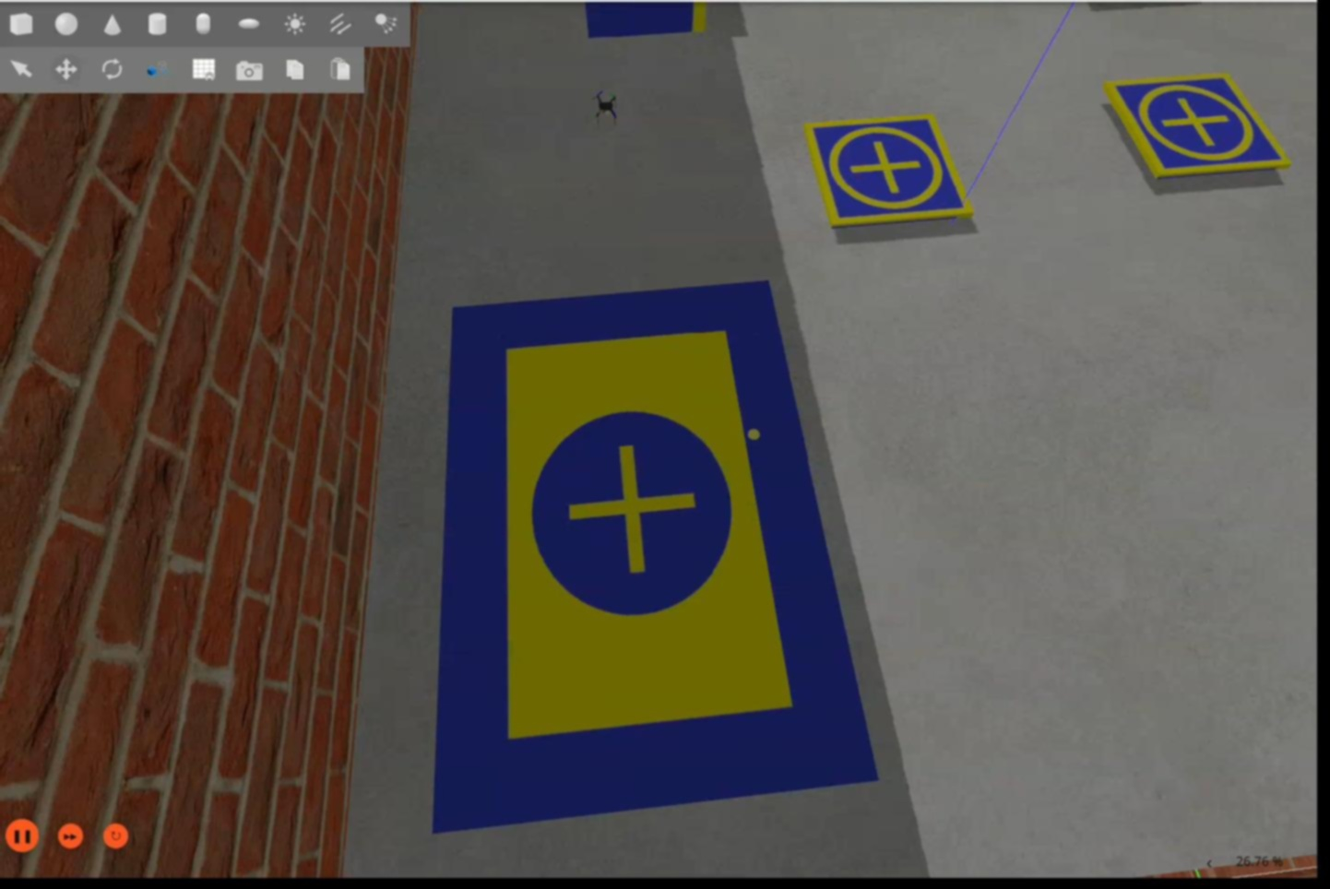large_base: (428, 284, 883, 832)
small_base: (1109, 74, 1293, 182), (804, 117, 977, 229)
